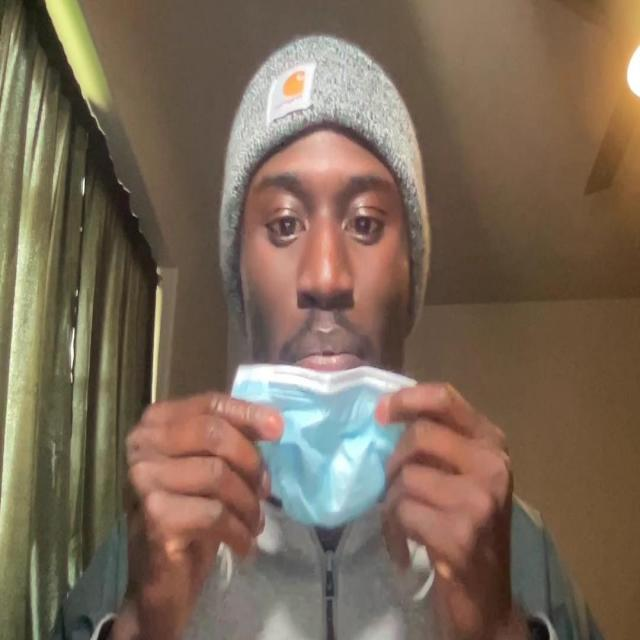face: (236, 116, 427, 502)
